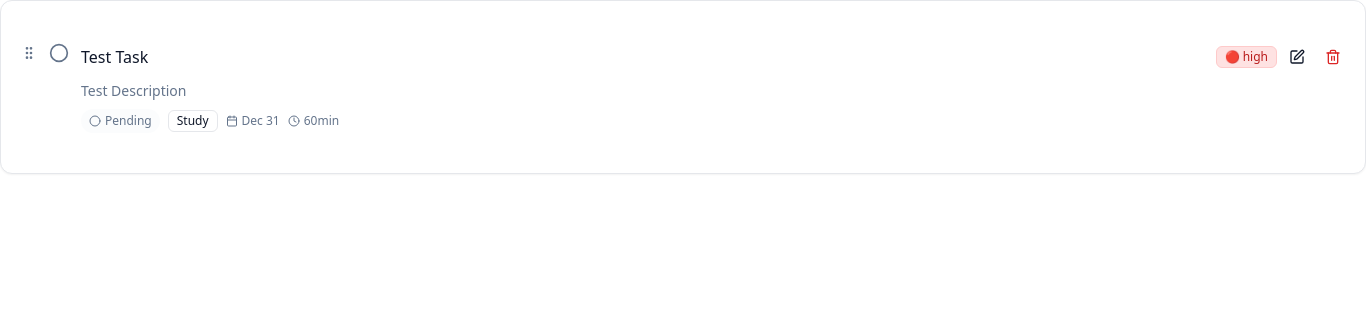
Test: TaskItem › handles empty title validation
// Open edit mode
Click the button named "edit task" at (1297, 57), box [1281,41,1313,73]
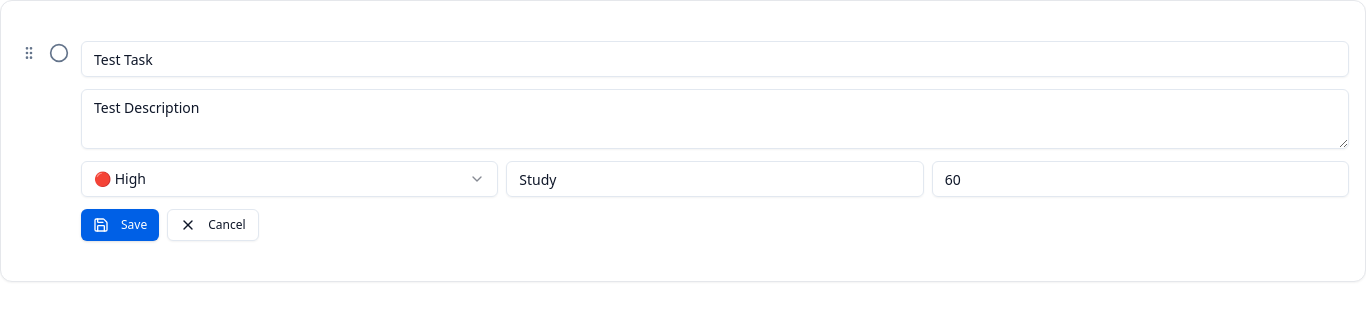
// Clear title
Clear the 1st field showing "Test Task" at (715, 59), box [81,41,1349,77]
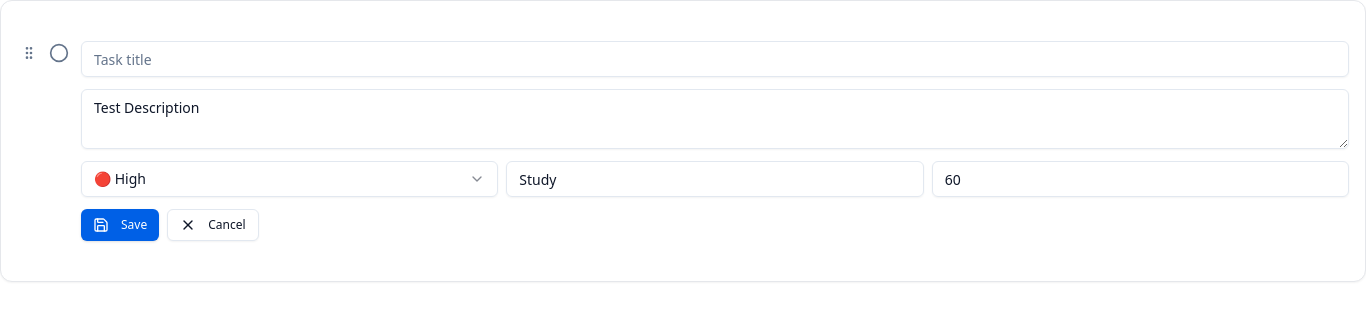
// Try to save
Click the button "Save" at (120, 225), box [81,209,159,241]
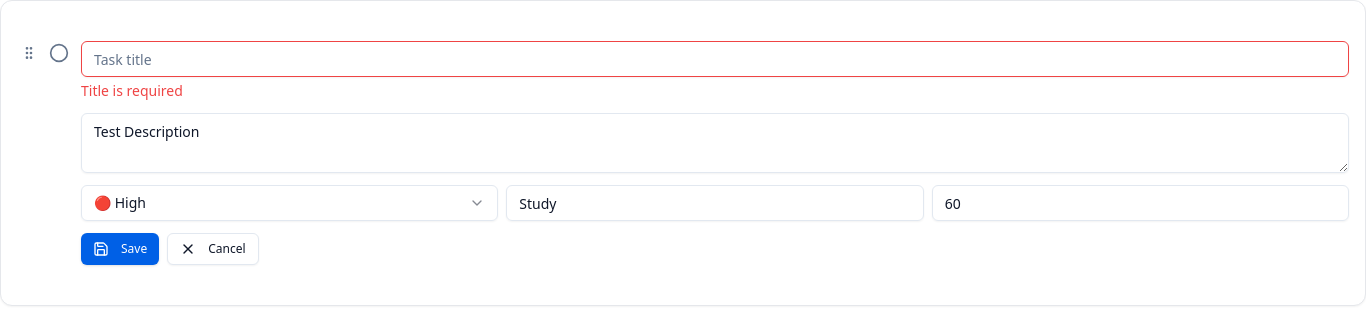
Expected: the text "Title is required" is shown, [81,81,183,100]
